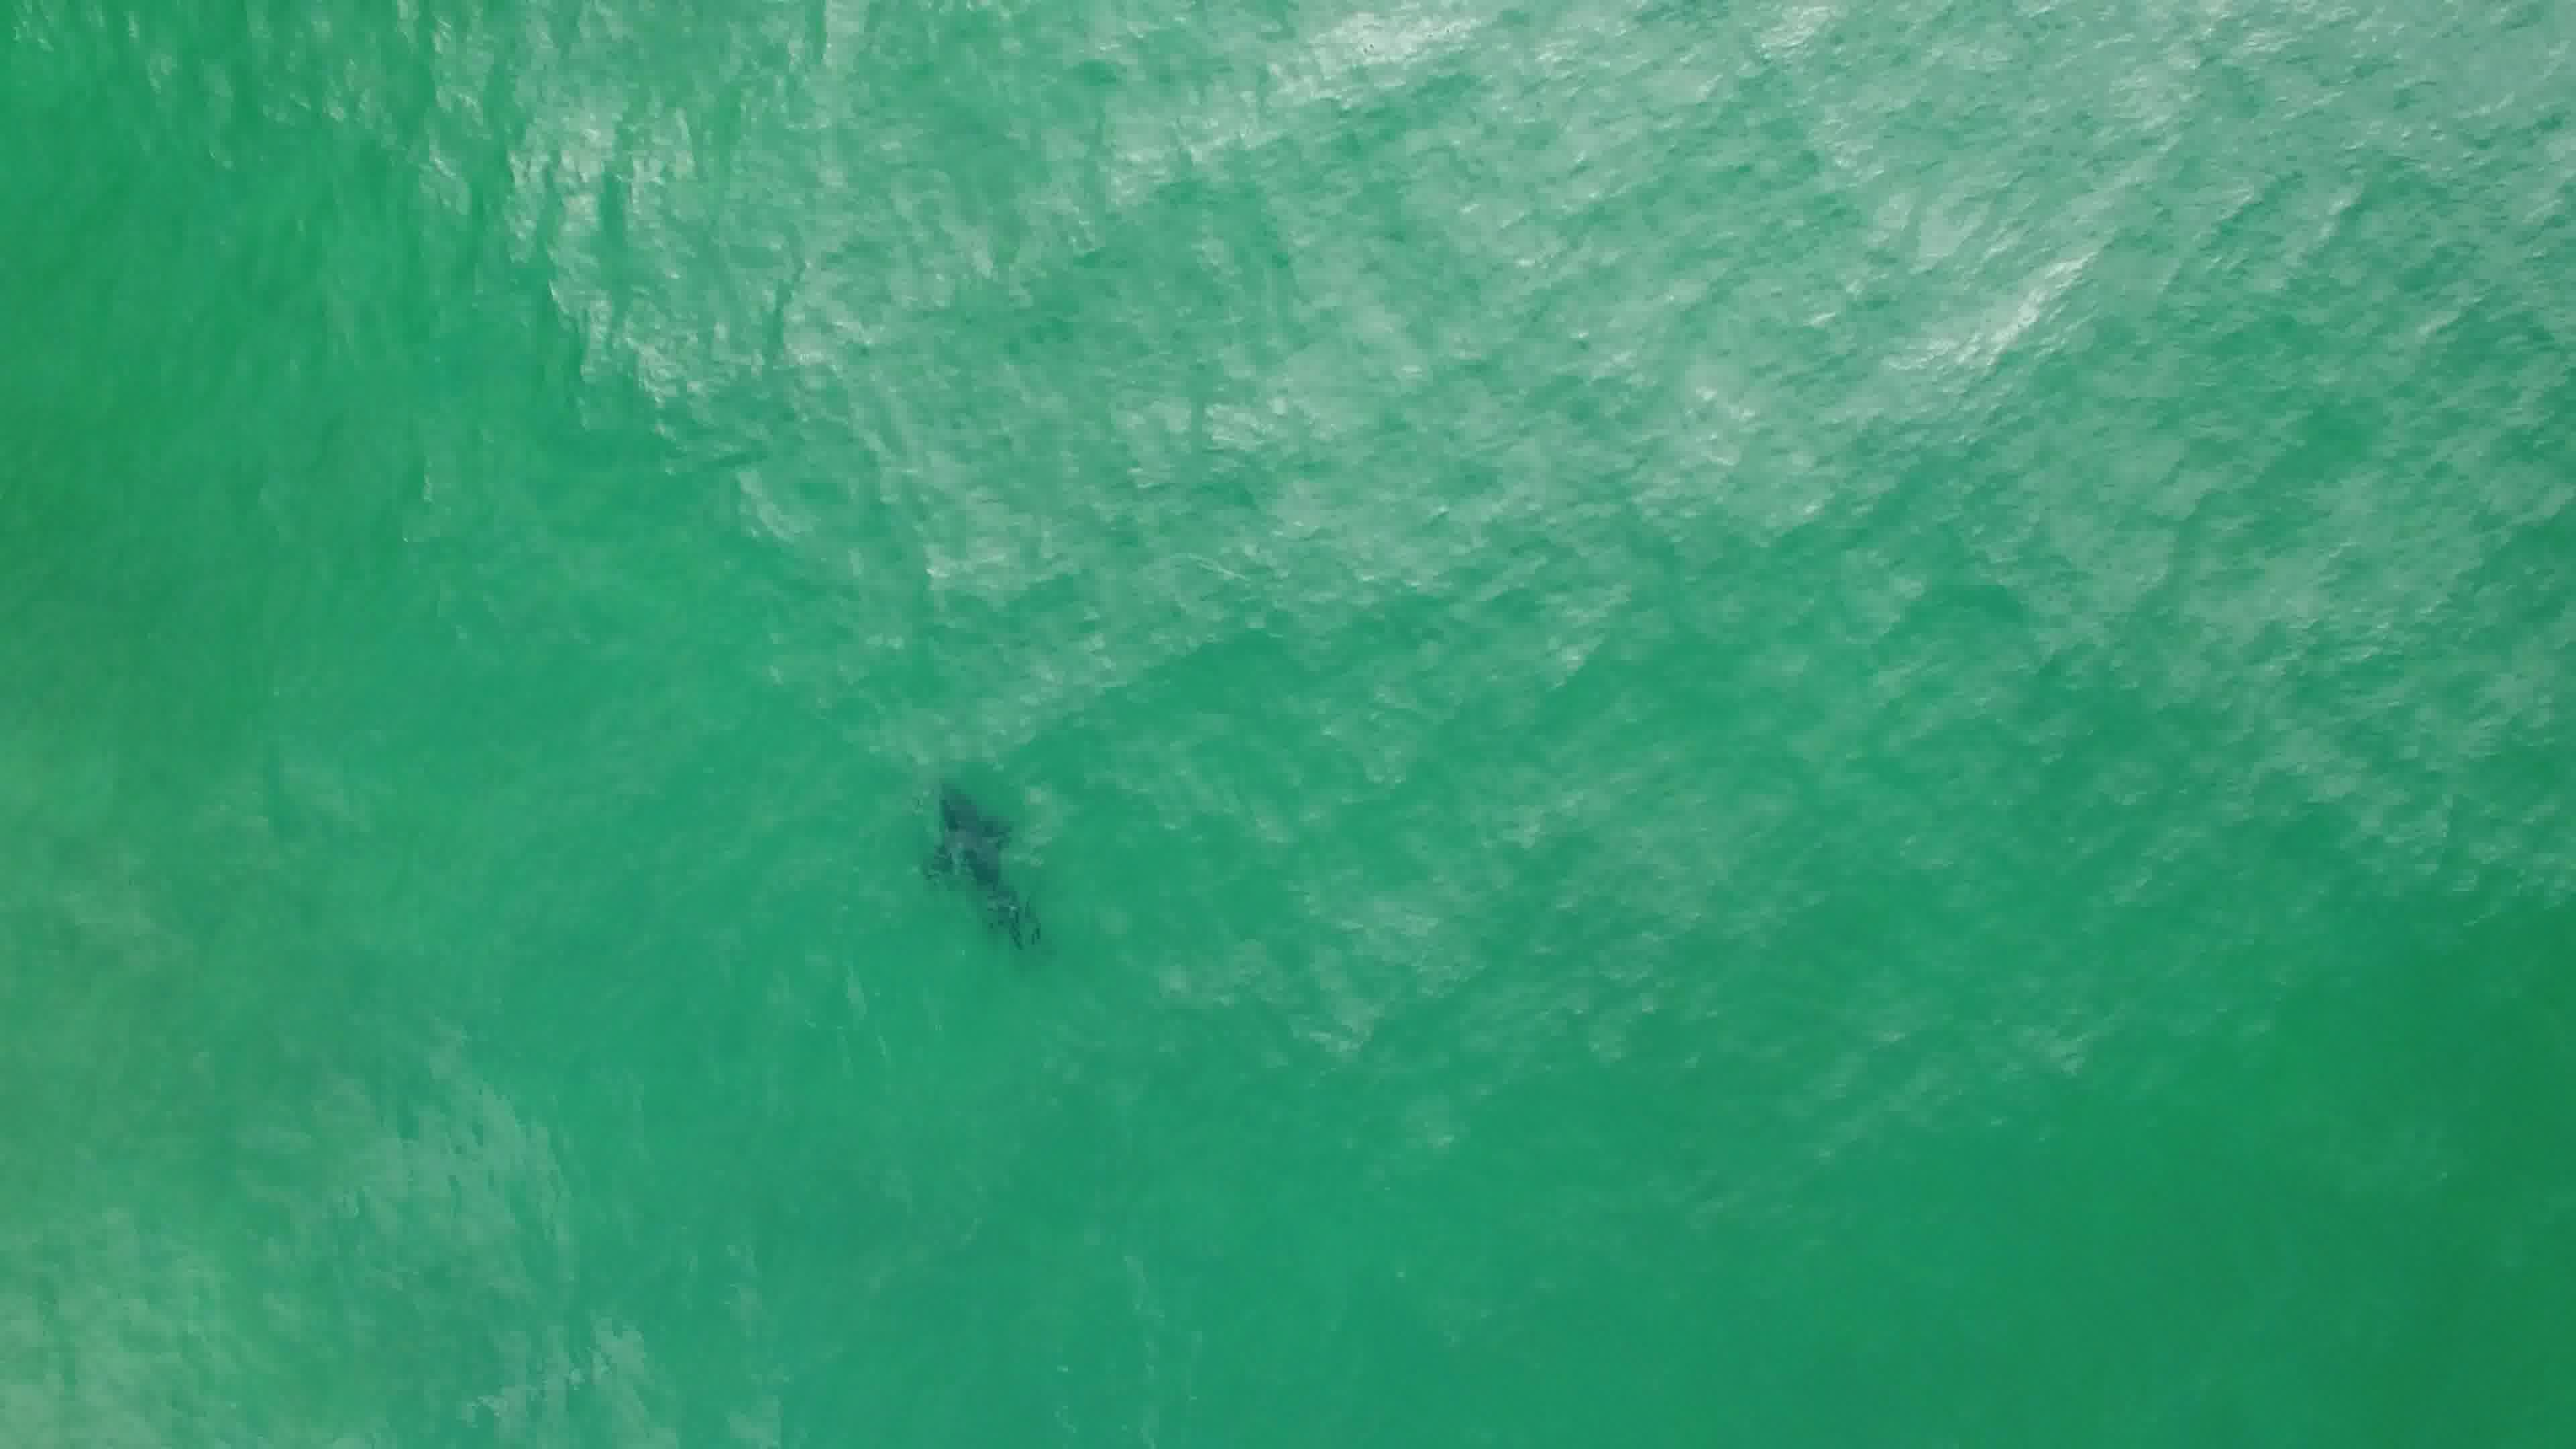shark: (909, 777, 1056, 950)
